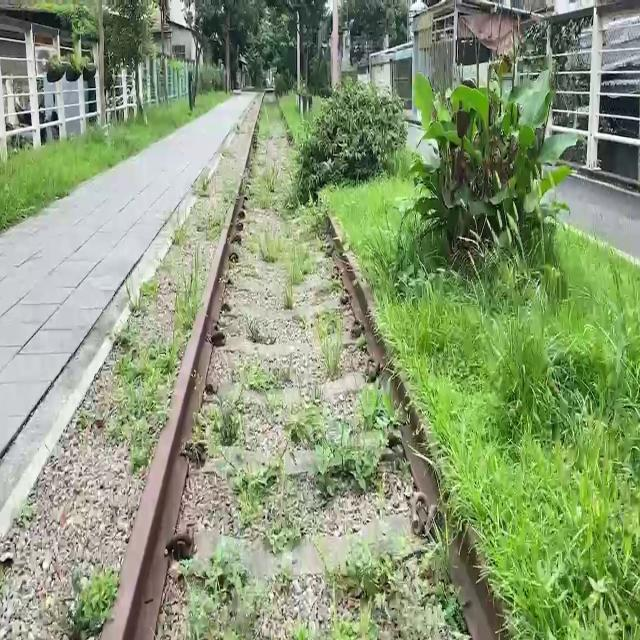rail-track: (158, 96, 466, 639)
